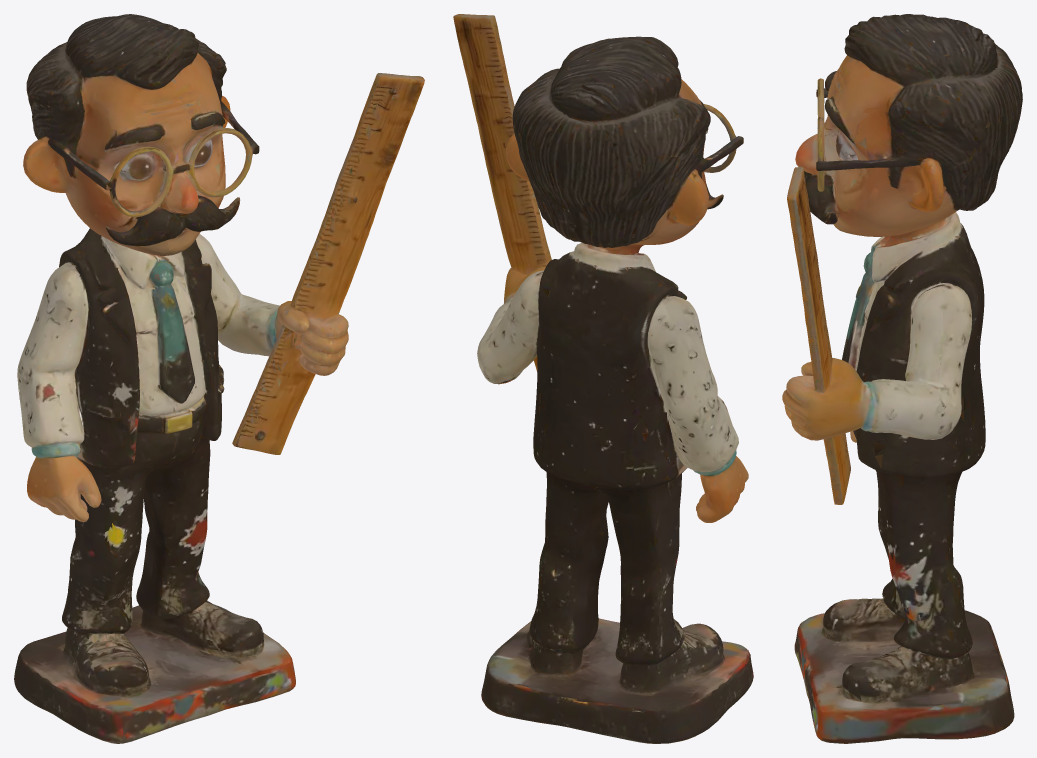
File: Z01_MasterJi.glb
3 renders of one model, left to right at view 1: azimuth 30°, elevation 25°; view 2: azimuth 150°, elevation 25°; view 3: azimuth 270°, elevation 25°, orthographic. The views are drawn at different scales.
Parts seen in each view (by area): view 1: geometry_0; view 2: geometry_0; view 3: geometry_0.
Part boxes in pixels (left/top/right/bottom): geometry_0: left=14, top=14, right=424, bottom=743; geometry_0: left=453, top=14, right=753, bottom=743; geometry_0: left=782, top=14, right=1022, bottom=743.
Bounding box in the file's own units: 1.07 × 2 × 0.6526.
1 material, 1 textured.
